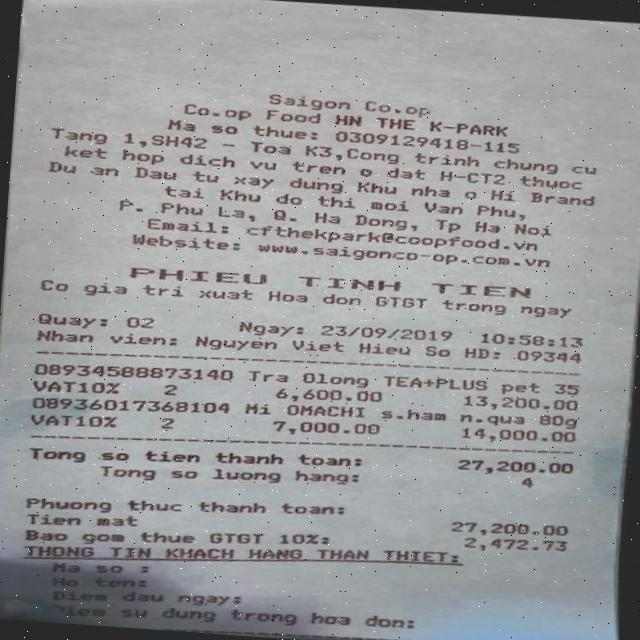Store_Name: (270, 88, 436, 119)
amount_number: (452, 451, 578, 481)
label_total: (29, 434, 367, 486)
